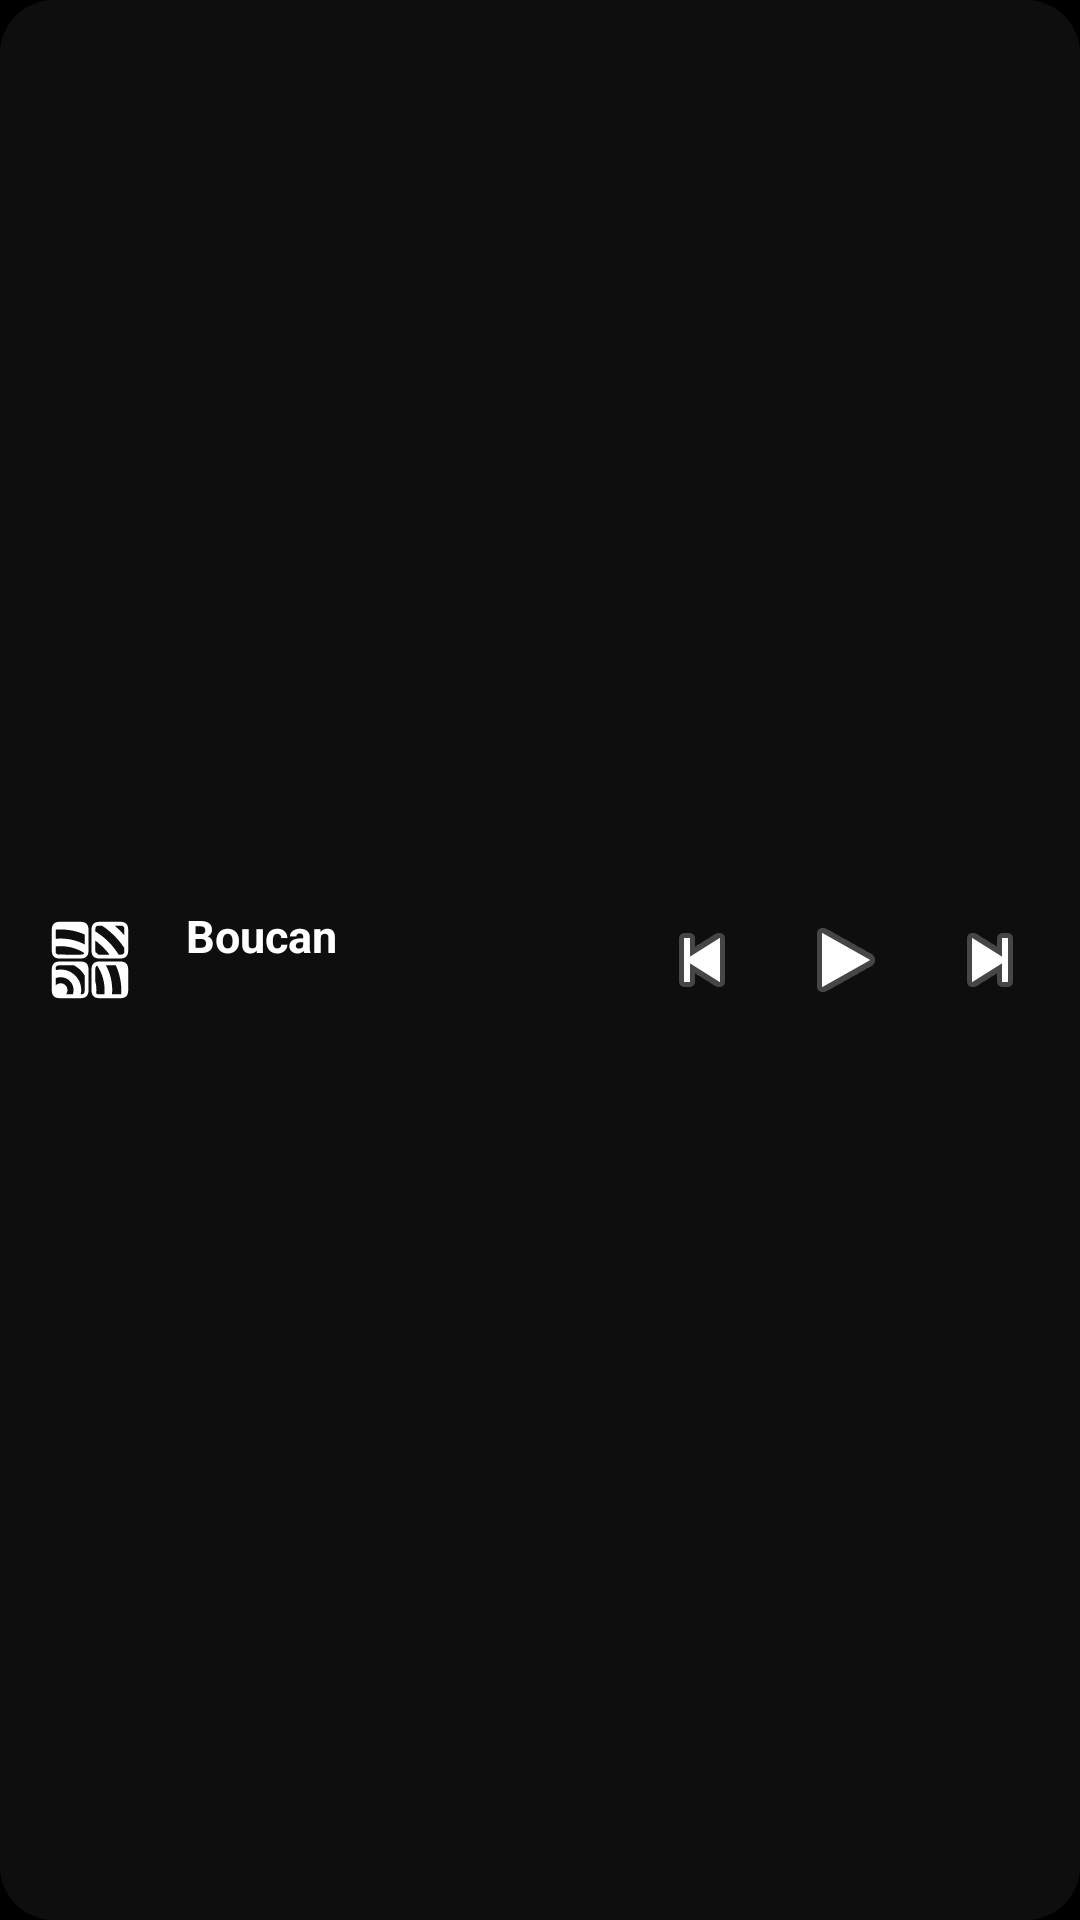

Icon bounding boxes for this 1080x1920 phone screenshot, format (x1, y1, x2, y2):
next: (967, 933, 1013, 987)
play: (817, 928, 875, 992)
prev: (679, 933, 725, 987)
